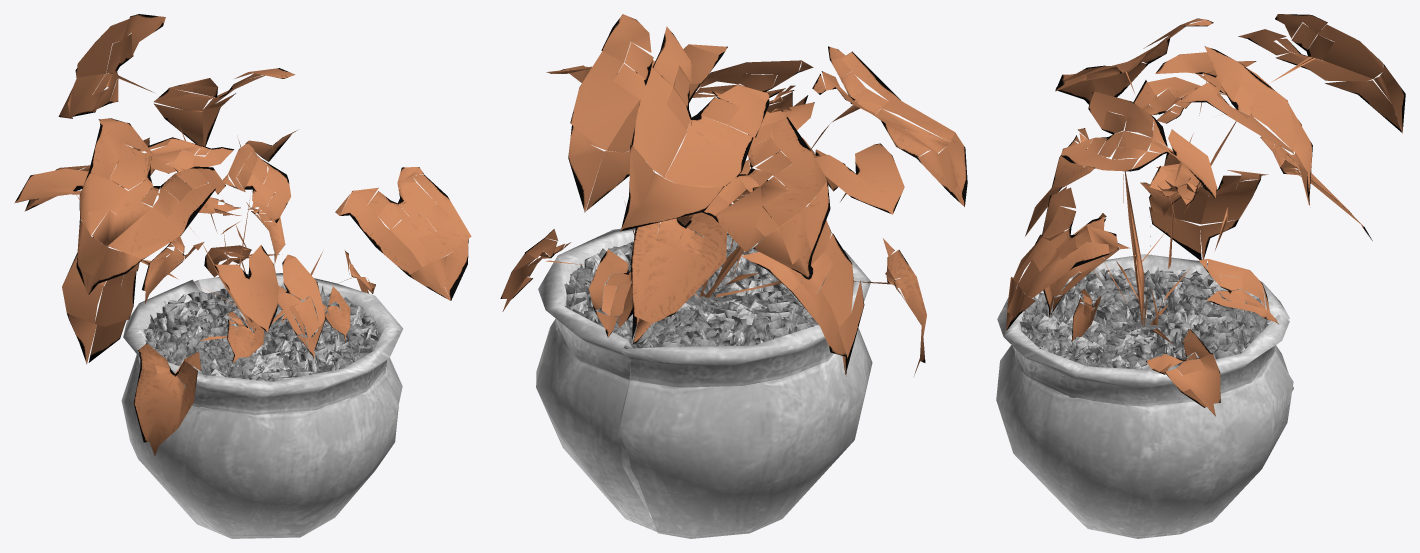
File: plant.glb
The picture shows the model from 3 angles, left to right: view 1: azimuth 30°, elevation 25°; view 2: azimuth 150°, elevation 25°; view 3: azimuth 270°, elevation 25°; orthographic projection. The views are drawn at different scales.
Parts seen in each view (by area): view 1: tint_pot, tint_pot.001; view 2: tint_pot, tint_pot.001; view 3: tint_pot.001, tint_pot.
Part boxes in pixels (x1=…): tint_pot: x1=14, y1=14, x2=471, y2=455; tint_pot.001: x1=121, y1=273, x2=403, y2=538; tint_pot: x1=500, y1=14, x2=967, y2=376; tint_pot.001: x1=536, y1=223, x2=872, y2=538; tint_pot.001: x1=996, y1=254, x2=1293, y2=538; tint_pot: x1=1006, y1=14, x2=1405, y2=416.
Size of the model in its own units: 0.6977 by 0.8422 by 0.6578.
Materials: 2 (2 with a texture image).
